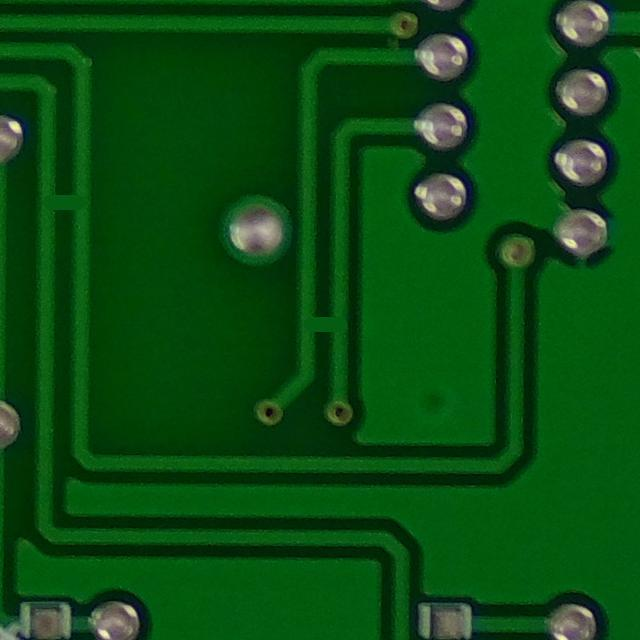short: (286, 290, 355, 351)
